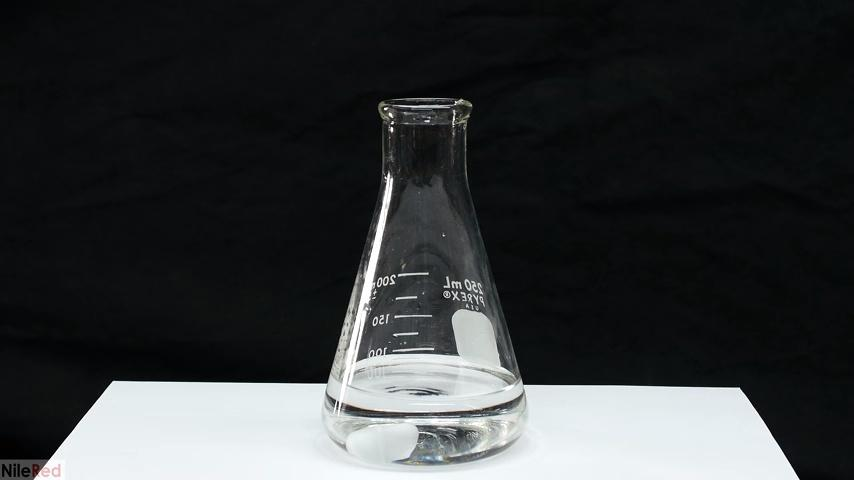Titrarion: (327, 66, 537, 455)
